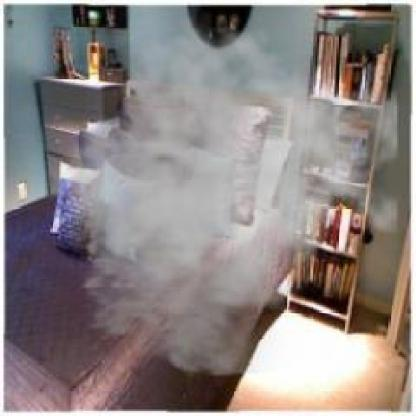Smoke: (34, 13, 398, 377)
